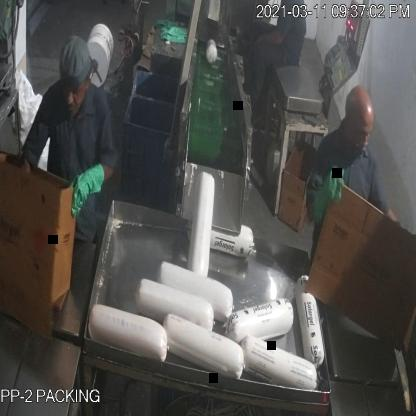glove: (308, 163, 345, 235)
